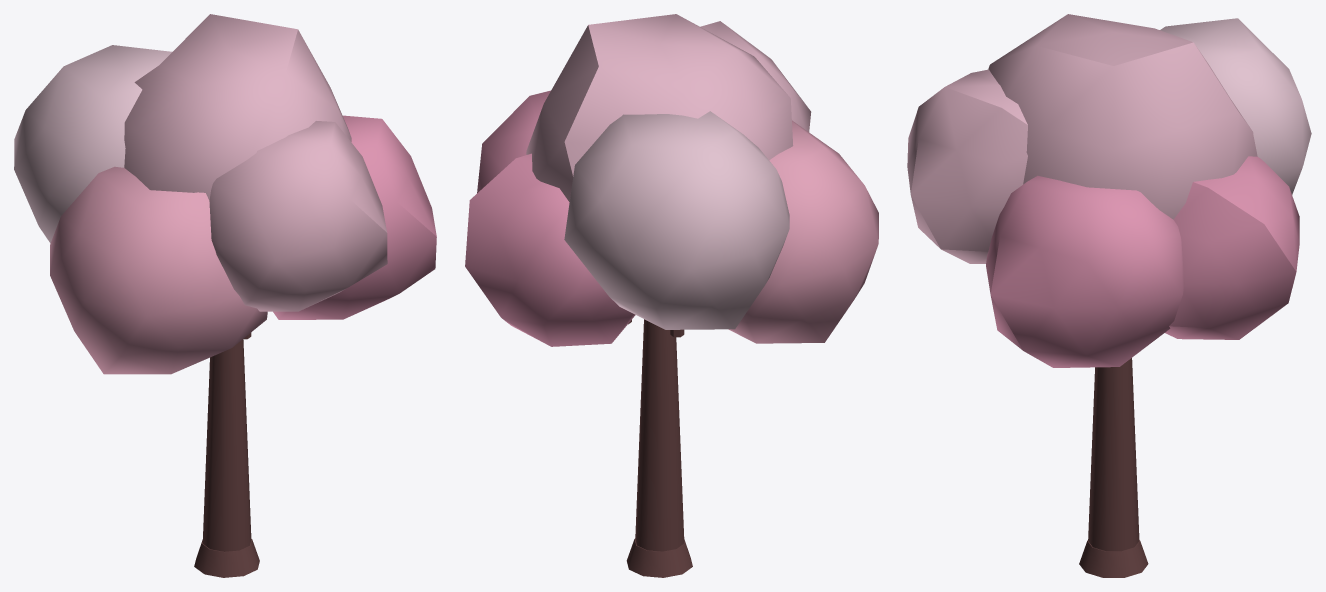
The model's file is sakura_1.glb.
3 renders of one model, left to right at view 1: azimuth 30°, elevation 25°; view 2: azimuth 150°, elevation 25°; view 3: azimuth 270°, elevation 25°, orthographic. The views are drawn at different scales.
Parts seen in each view (by area): view 1: sakura; view 2: sakura; view 3: sakura.
Boxes of the visible parts, left/top/right/bottom form: sakura: left=14, top=14, right=436, bottom=577; sakura: left=465, top=14, right=878, bottom=577; sakura: left=907, top=14, right=1311, bottom=577.
Size of the model in its own units: 4.15 by 5.77 by 3.96.
